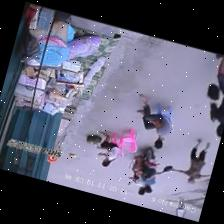person: (136, 94, 171, 148), (172, 139, 210, 183), (210, 54, 223, 136), (136, 155, 161, 192), (97, 132, 118, 166), (128, 160, 144, 193), (175, 198, 185, 217)
